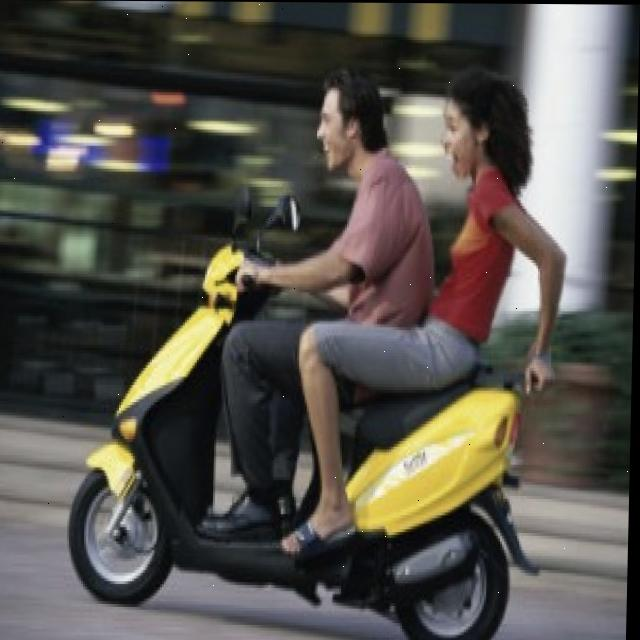without helmet: (439, 64, 534, 185), (311, 57, 396, 188)
